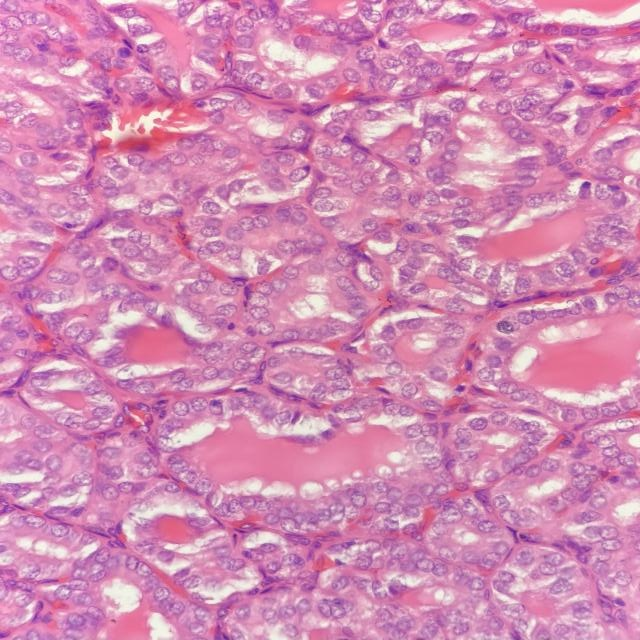TC: (371, 178, 408, 212), (329, 246, 360, 273), (374, 359, 412, 381), (248, 317, 284, 340), (415, 185, 444, 212), (239, 291, 275, 312), (220, 239, 249, 265), (442, 321, 474, 344), (422, 127, 446, 157), (300, 229, 332, 251), (472, 363, 503, 385), (434, 260, 462, 284), (368, 341, 400, 361), (324, 105, 353, 127), (309, 195, 339, 216), (287, 122, 310, 149), (315, 367, 349, 385), (397, 379, 426, 400), (330, 277, 357, 299), (417, 417, 444, 439), (364, 475, 391, 497), (277, 262, 303, 284), (269, 369, 293, 392), (314, 141, 334, 166), (226, 356, 252, 375), (215, 280, 238, 301), (253, 211, 274, 233), (451, 194, 475, 209)
